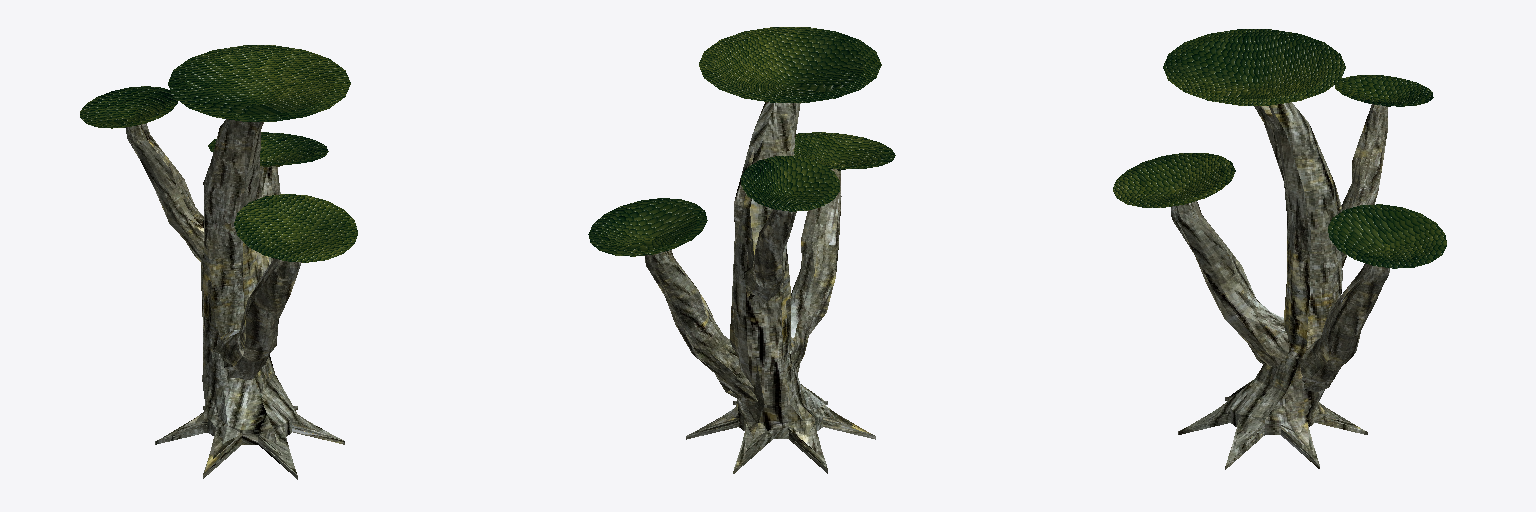
3 renders of one model, left to right at view 1: azimuth 30°, elevation 25°; view 2: azimuth 150°, elevation 25°; view 3: azimuth 270°, elevation 25°, orthographic.
Parts seen in each view (by area): view 1: Cylinder.003_Cylinder.005, Cylinder.005_Cylinder.009; view 2: Cylinder.003_Cylinder.005, Cylinder.005_Cylinder.009; view 3: Cylinder.003_Cylinder.005, Cylinder.005_Cylinder.009.
Boxes of the visible parts, x1,y1,x2,y2 form: Cylinder.003_Cylinder.005: [126, 119, 344, 479]; Cylinder.005_Cylinder.009: [80, 45, 357, 262]; Cylinder.003_Cylinder.005: [645, 102, 875, 473]; Cylinder.005_Cylinder.009: [588, 27, 895, 256]; Cylinder.003_Cylinder.005: [1171, 102, 1389, 469]; Cylinder.005_Cylinder.009: [1113, 29, 1446, 268].
Bounding box in the file's own units: 6.06 × 9.03 × 7.45.
2 materials, 2 textured.